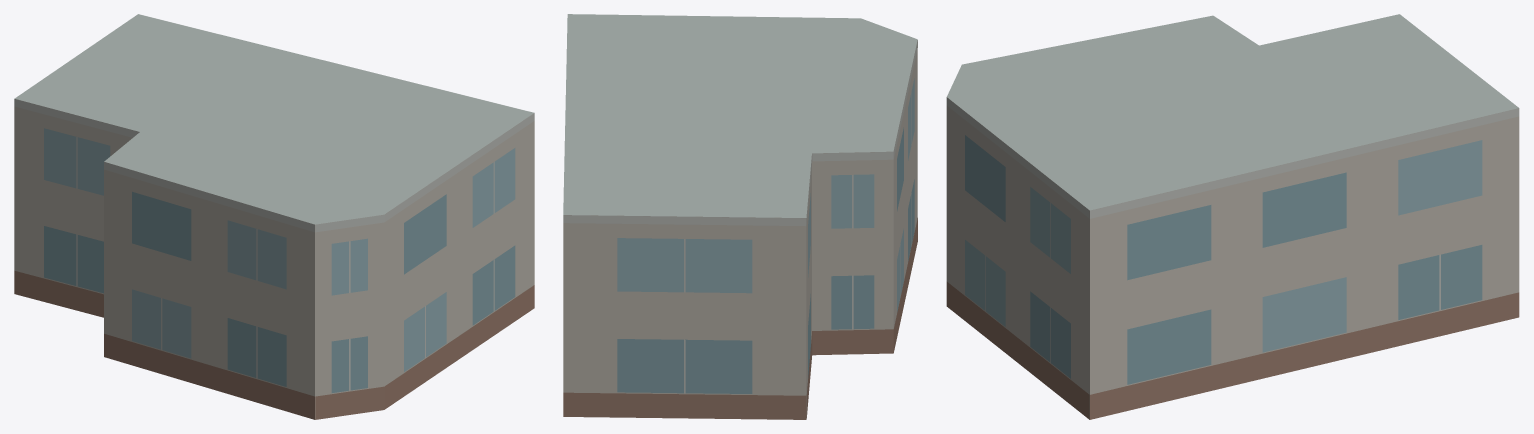
The model's file is survey-upis-32921515.glb.
The picture shows the model from 3 angles, left to right: view 1: azimuth 30°, elevation 25°; view 2: azimuth 150°, elevation 25°; view 3: azimuth 270°, elevation 25°; orthographic projection. The views are drawn at different scales.
Parts seen in each view (by area): view 1: survey-upis-32921515.tmp; view 2: survey-upis-32921515.tmp; view 3: survey-upis-32921515.tmp.
Boxes of the visible parts, x1,y1,x2,y2 form: survey-upis-32921515.tmp: [14, 14, 534, 419]; survey-upis-32921515.tmp: [563, 14, 917, 419]; survey-upis-32921515.tmp: [946, 14, 1519, 419].
Bounding box in the file's own units: 12.29 × 6.1 × 15.14.
